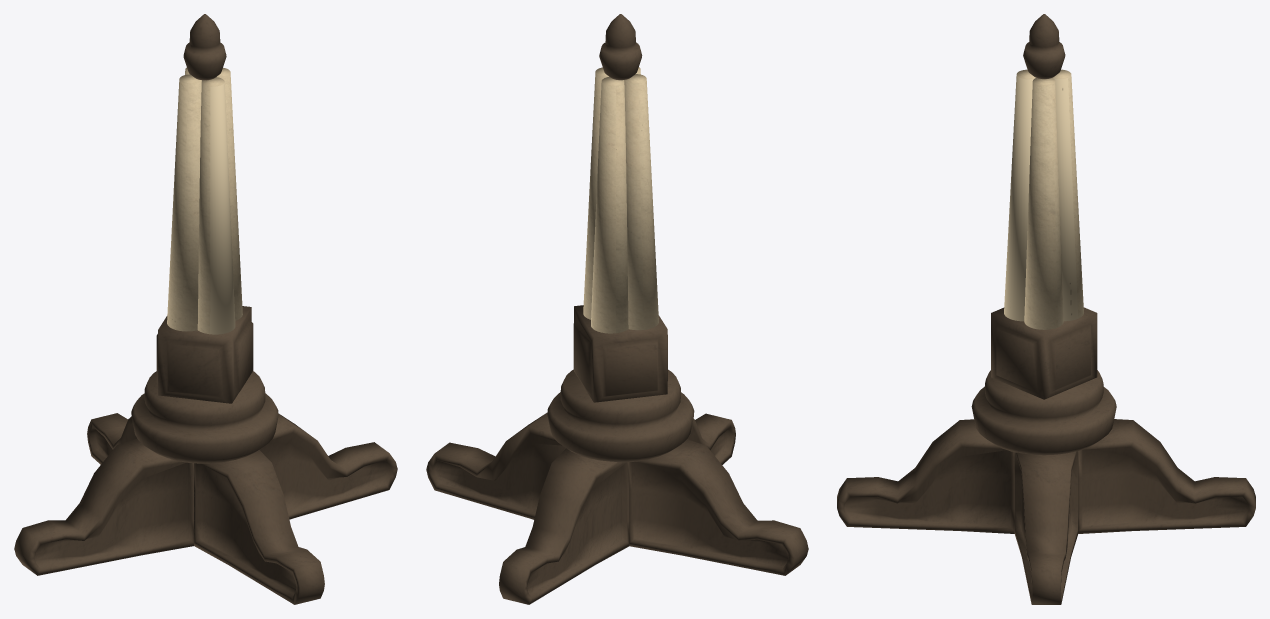
File: tugu muda.fbx
The picture shows the model from 3 angles, left to right: view 1: azimuth 30°, elevation 25°; view 2: azimuth 150°, elevation 25°; view 3: azimuth 270°, elevation 25°; orthographic projection.
Visible parts, largest first — view 1: Cube; view 2: Cube; view 3: Cube.
Boxes of the visible parts, <box> form: Cube: <box>14,14,397,604</box>; Cube: <box>426,14,808,604</box>; Cube: <box>837,14,1255,604</box>.
Bounding box in the file's own units: 492 × 655 × 492.
